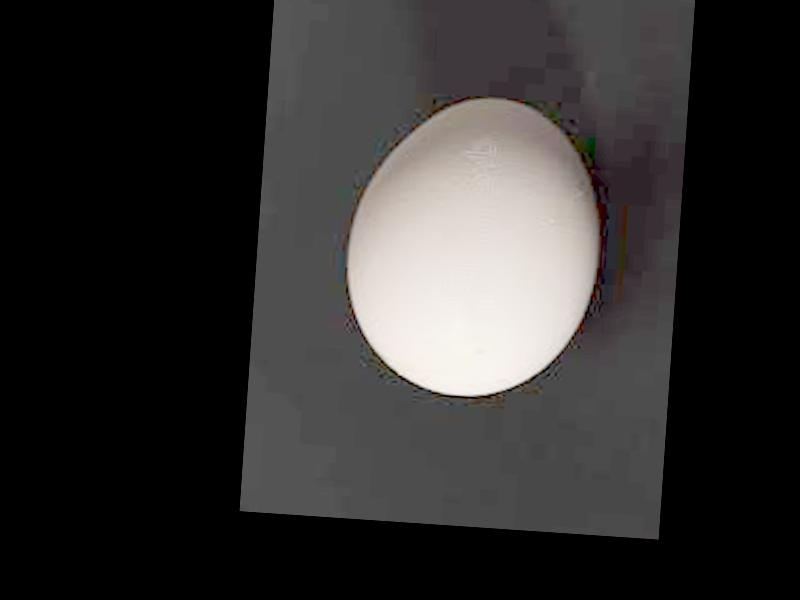Eggs: (340, 91, 605, 406)
